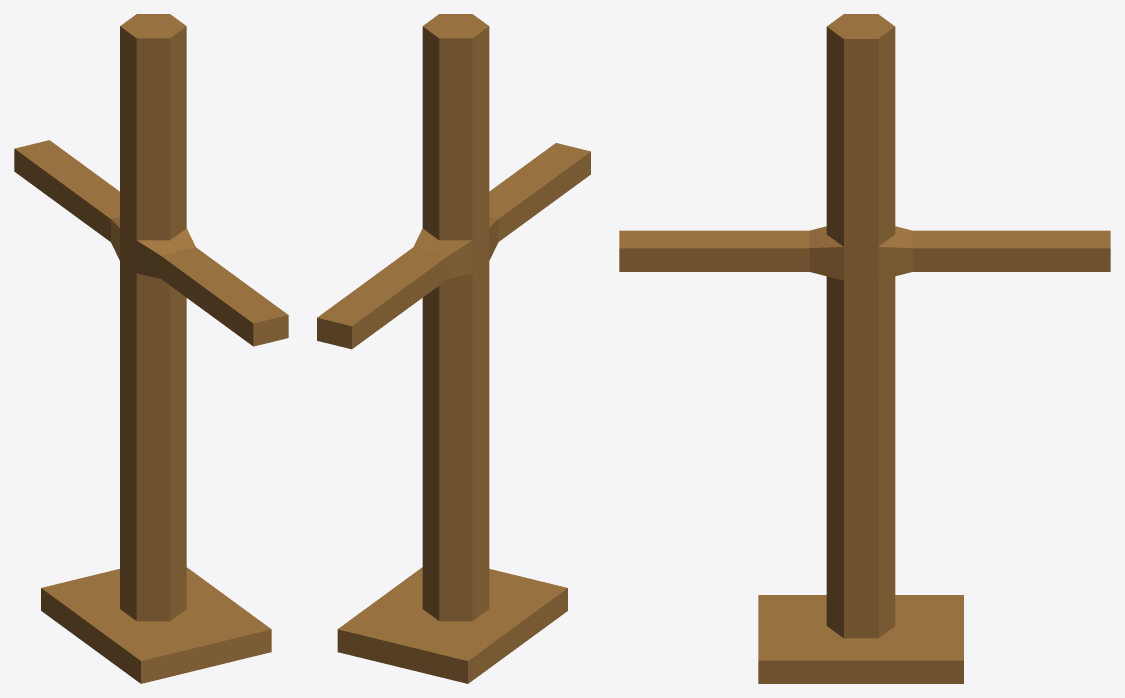
Rendered from Armos_stand.fbx.
3 views of the same model, side by side, from view 1: azimuth 30°, elevation 25°; view 2: azimuth 150°, elevation 25°; view 3: azimuth 270°, elevation 25° (orthographic). The views are drawn at different scales.
Parts seen in each view (by area): view 1: Cylinder.008; view 2: Cylinder.008; view 3: Cylinder.008.
Boxes of the visible parts, bbox=[...] form: Cylinder.008: bbox=[14, 14, 288, 683]; Cylinder.008: bbox=[317, 14, 590, 683]; Cylinder.008: bbox=[619, 14, 1110, 683].
Size of the model in its own units: 197 by 874 by 625.
